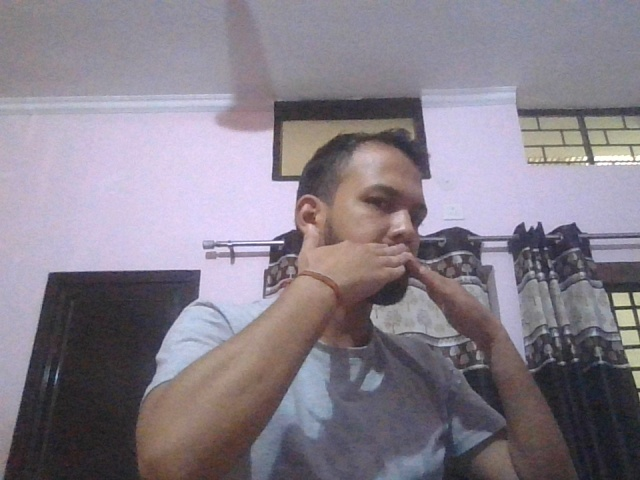thanks: (294, 222, 511, 339)
